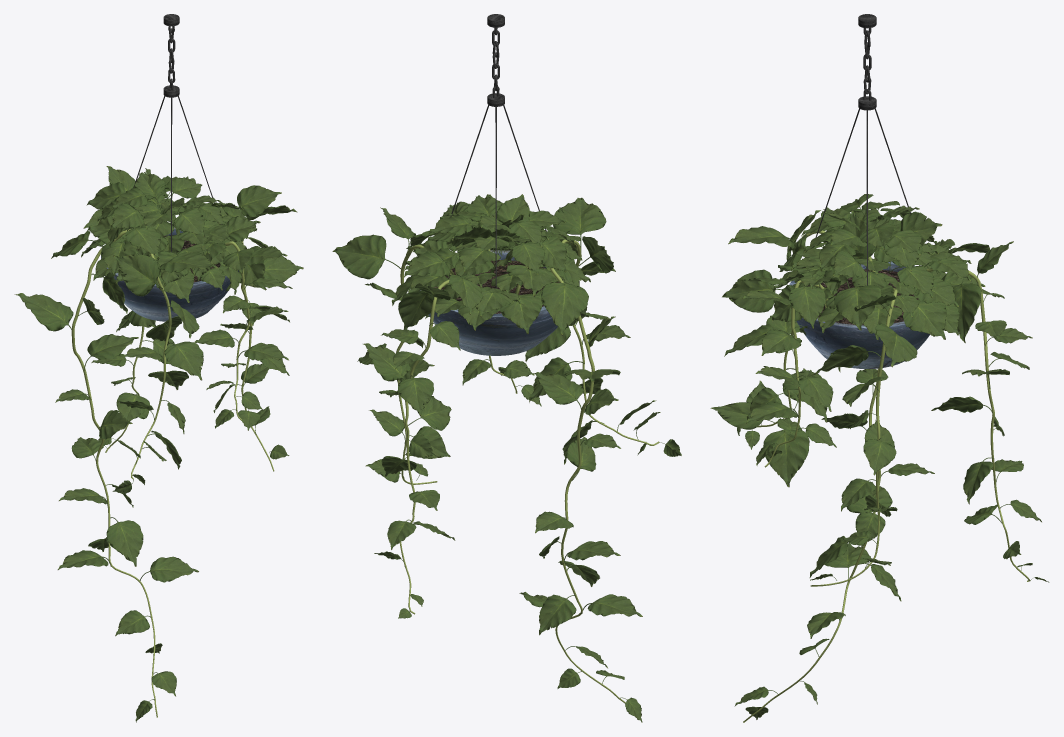
File: hanging_plant.glb
3 renders of one model, left to right at view 1: azimuth 30°, elevation 25°; view 2: azimuth 150°, elevation 25°; view 3: azimuth 270°, elevation 25°, orthographic. The views are drawn at different scales.
Visible parts, largest first — view 1: Plant hanging N050922_Leaf.001_0, Plant hanging N050922_Stem_0, Plant hanging N050922_Ceramic_0, Plant hanging N050922_Metal_0; view 2: Plant hanging N050922_Leaf.001_0, Plant hanging N050922_Ceramic_0, Plant hanging N050922_Stem_0, Plant hanging N050922_Metal_0, Plant hanging N050922_Ground_0; view 3: Plant hanging N050922_Leaf.001_0, Plant hanging N050922_Stem_0, Plant hanging N050922_Ceramic_0, Plant hanging N050922_Metal_0.
Part boxes in pixels (bbox=[...]): Plant hanging N050922_Leaf.001_0: bbox=[14, 166, 303, 722]; Plant hanging N050922_Stem_0: bbox=[71, 207, 274, 717]; Plant hanging N050922_Ceramic_0: bbox=[101, 227, 238, 321]; Plant hanging N050922_Metal_0: bbox=[133, 14, 221, 252]; Plant hanging N050922_Leaf.001_0: bbox=[332, 194, 681, 722]; Plant hanging N050922_Ceramic_0: bbox=[420, 250, 557, 355]; Plant hanging N050922_Stem_0: bbox=[396, 239, 659, 703]; Plant hanging N050922_Metal_0: bbox=[450, 14, 546, 313]; Plant hanging N050922_Ground_0: bbox=[434, 260, 559, 313]; Plant hanging N050922_Leaf.001_0: bbox=[710, 194, 1049, 719]; Plant hanging N050922_Stem_0: bbox=[743, 230, 1030, 722]; Plant hanging N050922_Ceramic_0: bbox=[789, 261, 929, 368]; Plant hanging N050922_Metal_0: bbox=[815, 14, 910, 285].
Size of the model in its own units: 9.28 by 22.12 by 9.08.
Materials: 5 (5 with a texture image).
